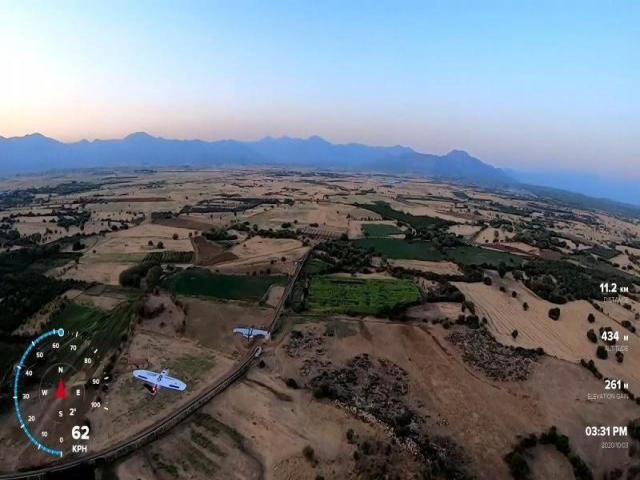hedef: (129, 362, 196, 401)
